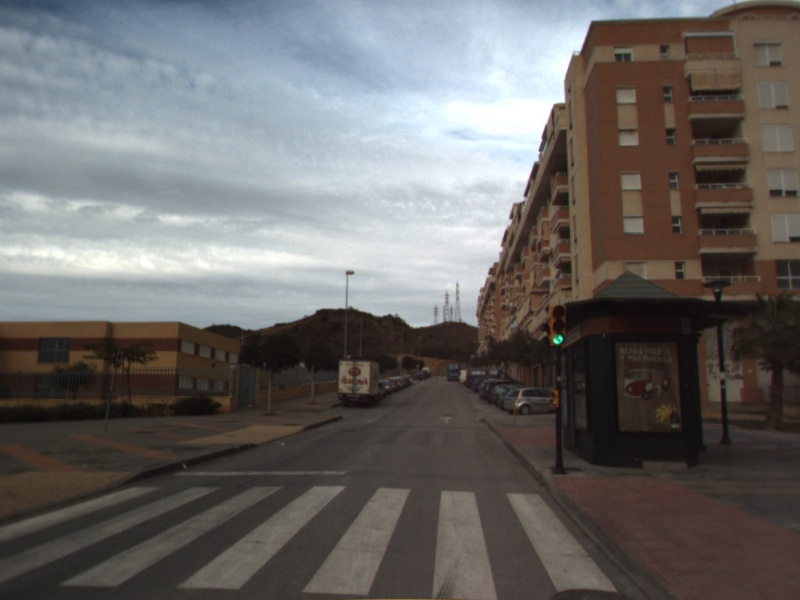STRAIGHT: (439, 414, 456, 426)
